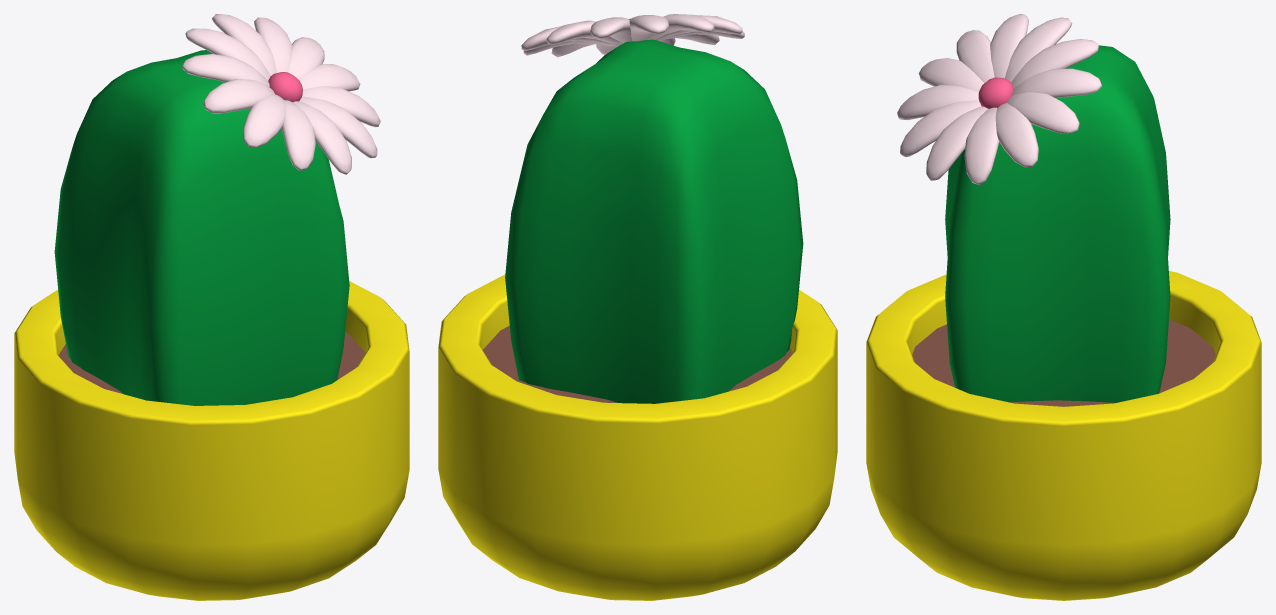
The model's file is City_20_Cactus_1.glb.
3 views of the same model, side by side, from view 1: azimuth 30°, elevation 25°; view 2: azimuth 150°, elevation 25°; view 3: azimuth 270°, elevation 25° (orthographic).
Visible parts, largest first — view 1: City_20_Cactus_1; view 2: City_20_Cactus_1; view 3: City_20_Cactus_1.
Part boxes in pixels (x1,y1,x2,y2): City_20_Cactus_1: (14,14,409,600); City_20_Cactus_1: (438,14,837,600); City_20_Cactus_1: (866,14,1261,600).
Bounding box in the file's own units: 0.6081 × 0.8876 × 0.6081.
1 material, 1 textured.
